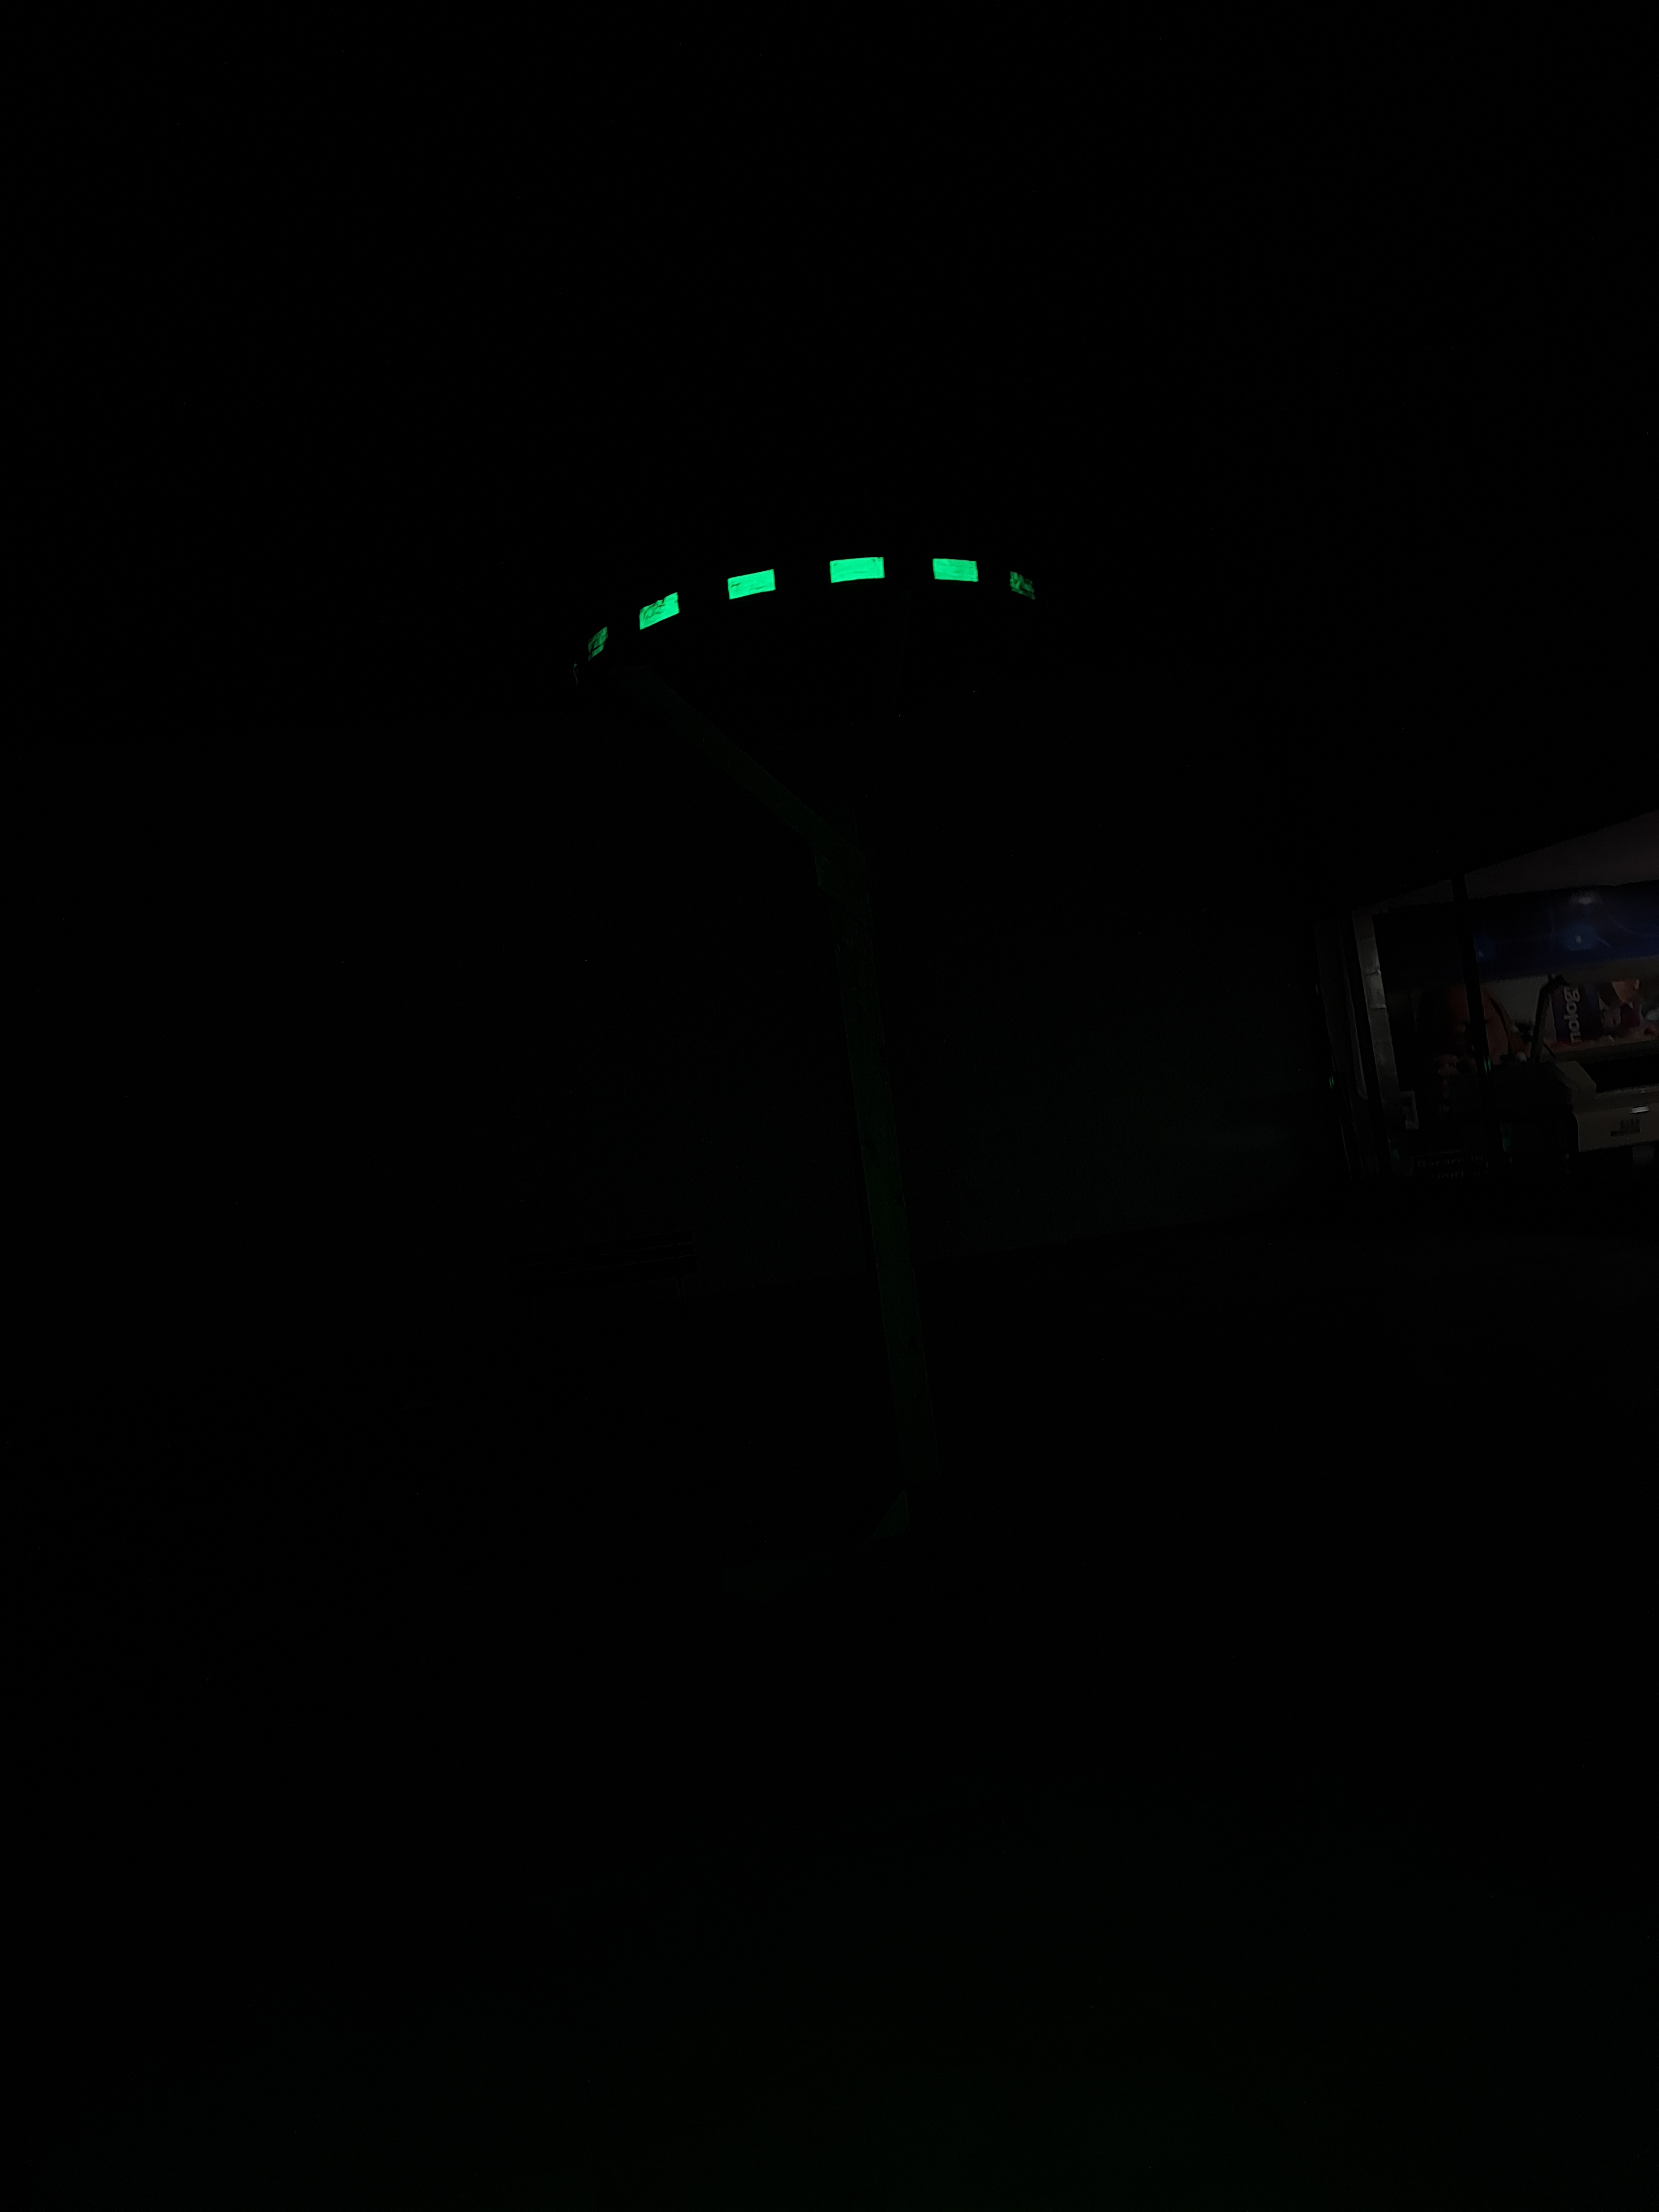hoop: (542, 516, 1094, 693)
